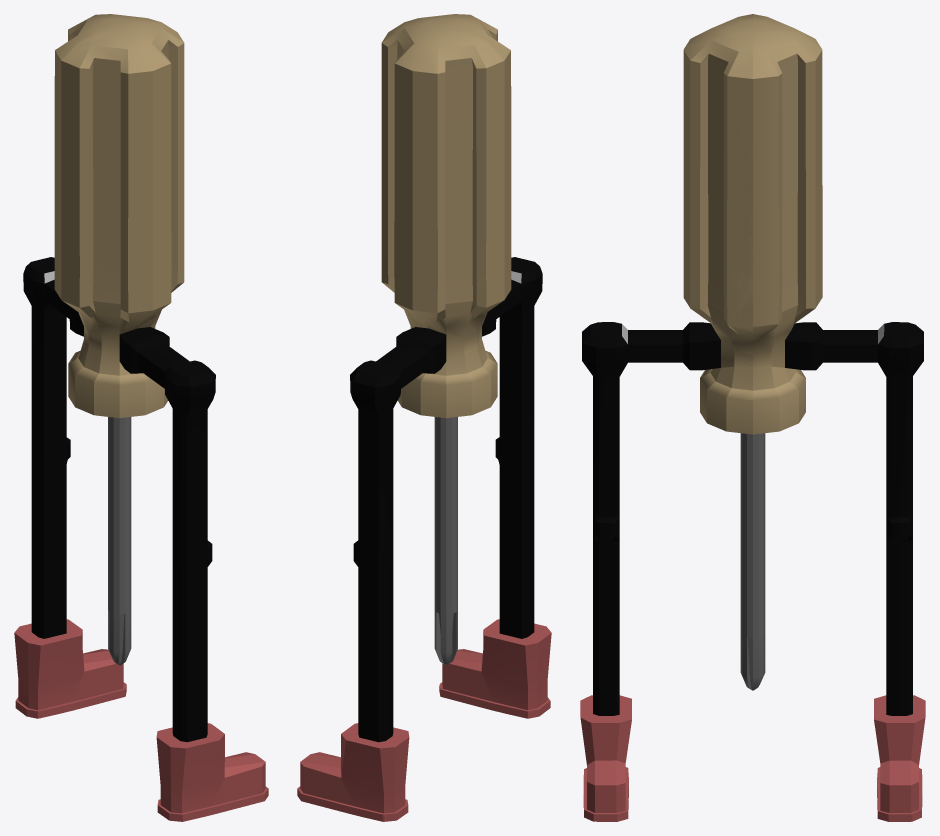
Rendered from ScrewDriverV1.fbx.
3 views of the same model, side by side, from view 1: azimuth 30°, elevation 25°; view 2: azimuth 150°, elevation 25°; view 3: azimuth 270°, elevation 25° (orthographic). The views are drawn at different scales.
Parts seen in each view (by area): view 1: polySurface9; view 2: polySurface9; view 3: polySurface9.
Boxes of the visible parts, left/top/right/bottom form: polySurface9: left=14, top=14, right=268, bottom=821; polySurface9: left=297, top=14, right=551, bottom=821; polySurface9: left=580, top=14, right=925, bottom=821.
Size of the model in its own units: 6.42 by 34.26 by 14.17.
